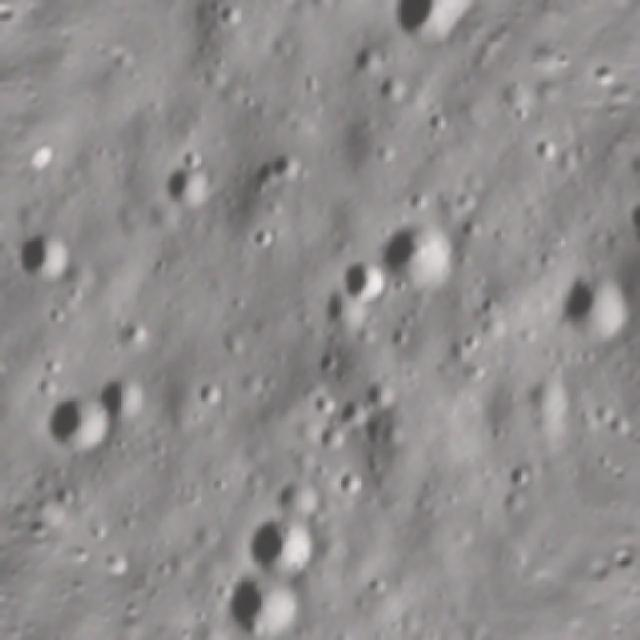crater: (531, 250, 640, 364), (363, 211, 466, 312), (23, 379, 122, 479), (227, 502, 327, 598), (0, 223, 86, 309), (210, 564, 306, 640), (75, 361, 156, 442), (374, 0, 464, 69), (254, 459, 332, 536), (146, 161, 220, 233), (321, 250, 393, 322), (604, 178, 640, 275), (322, 390, 378, 448), (363, 65, 419, 120), (297, 418, 349, 468), (492, 452, 542, 500), (335, 35, 382, 83), (110, 312, 156, 358), (322, 462, 368, 508), (204, 0, 250, 43), (182, 374, 226, 418), (414, 108, 454, 148), (244, 220, 281, 257)
